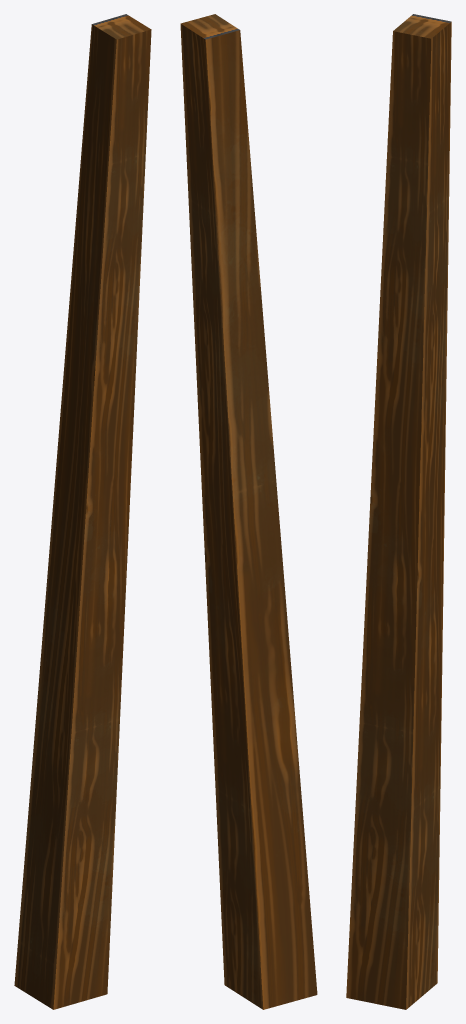
3 views of the same model, side by side, from view 1: azimuth 30°, elevation 25°; view 2: azimuth 210°, elevation 25°; view 3: azimuth 330°, elevation 25° (orthographic). The views are drawn at different scales.
Visible parts, largest first — view 1: Cube.1503; view 2: Cube.1503; view 3: Cube.1503.
Boxes of the visible parts, left/top/right/bottom form: Cube.1503: left=14, top=14, right=151, bottom=1009; Cube.1503: left=180, top=14, right=317, bottom=1009; Cube.1503: left=346, top=14, right=451, bottom=1009.
Bounding box in the file's own units: 135 × 1312 × 113.
1 material, 1 textured.
